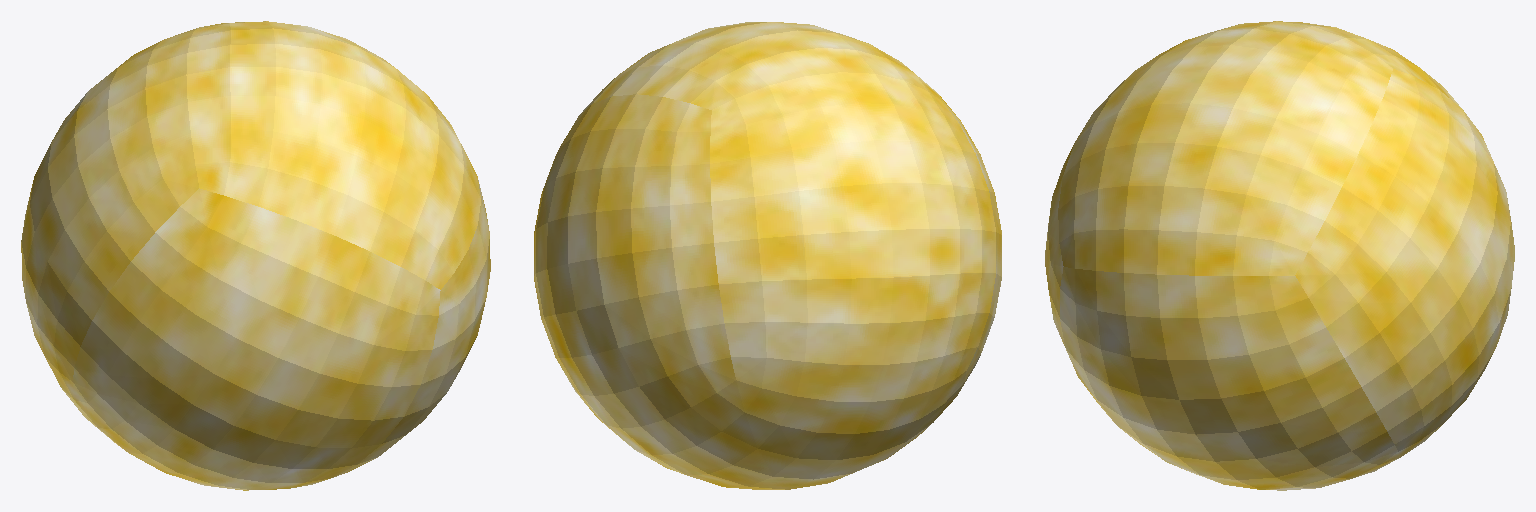
3 renders of one model, left to right at view 1: azimuth 30°, elevation 25°; view 2: azimuth 150°, elevation 25°; view 3: azimuth 270°, elevation 25°, orthographic.
Parts seen in each view (by area): view 1: Mars_Cube.002; view 2: Mars_Cube.002; view 3: Mars_Cube.002.
Part boxes in pixels (x1,y1,x2,y2): Mars_Cube.002: (21,21,490,490); Mars_Cube.002: (534,22,1001,489); Mars_Cube.002: (1045,21,1514,490).
Size of the model in its own units: 6.76 by 6.76 by 6.78.
Materials: 1 (1 with a texture image).